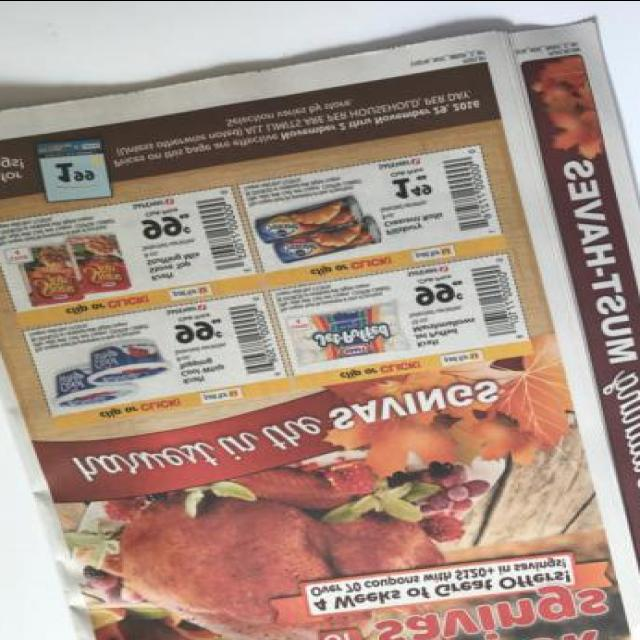kertas: (0, 12, 640, 640)
